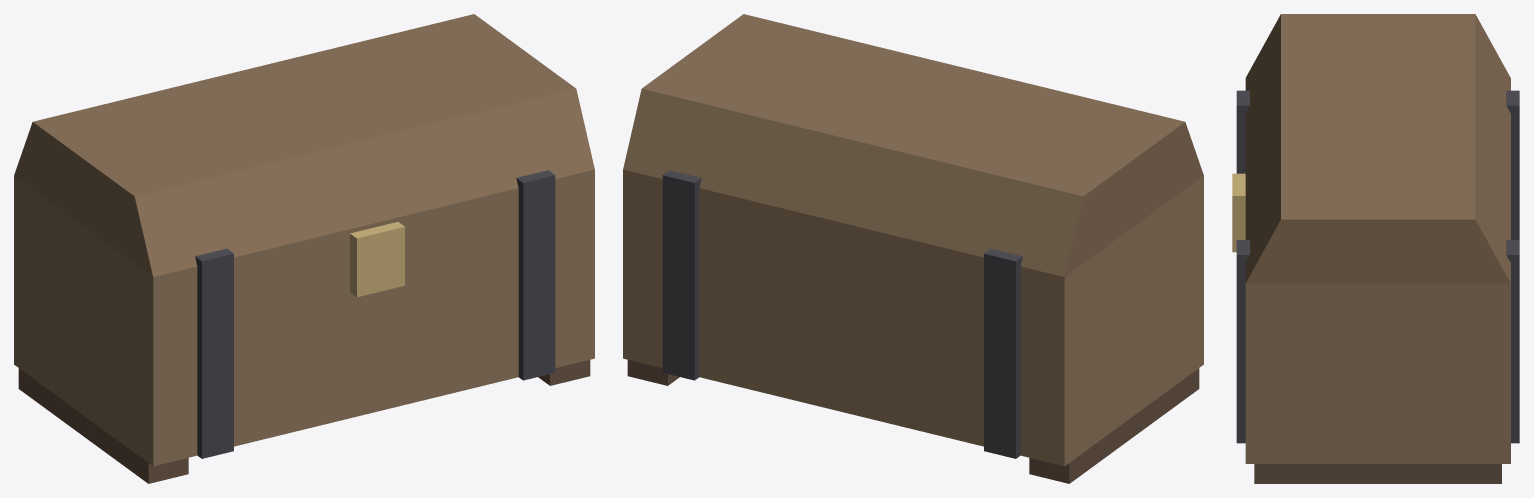
File: chest.glb
The picture shows the model from 3 angles, left to right: view 1: azimuth 30°, elevation 25°; view 2: azimuth 150°, elevation 25°; view 3: azimuth 270°, elevation 25°; orthographic projection. The views are drawn at different scales.
Parts seen in each view (by area): view 1: chest; view 2: chest; view 3: chest.
Boxes of the visible parts, box(x1,y1,x2,y2) form: chest: box(14, 14, 594, 483); chest: box(623, 14, 1203, 483); chest: box(1232, 14, 1519, 483).
Bounding box in the file's own units: 1.1 × 0.66 × 0.65.
